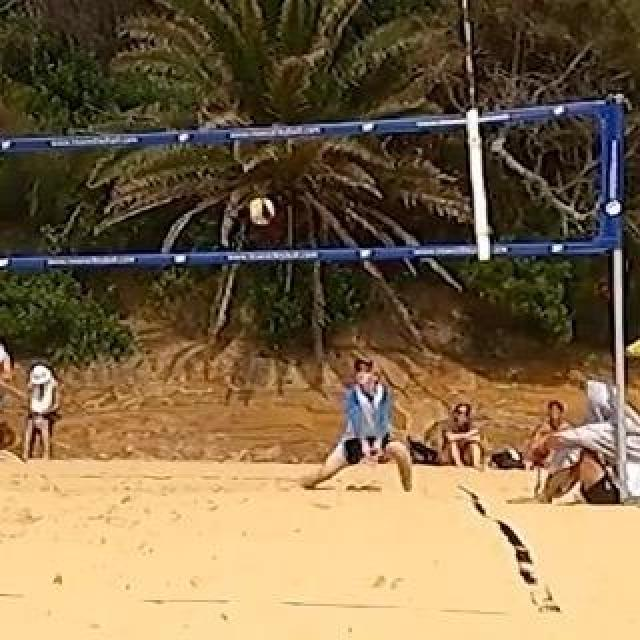volleyball: (251, 199, 275, 225)
